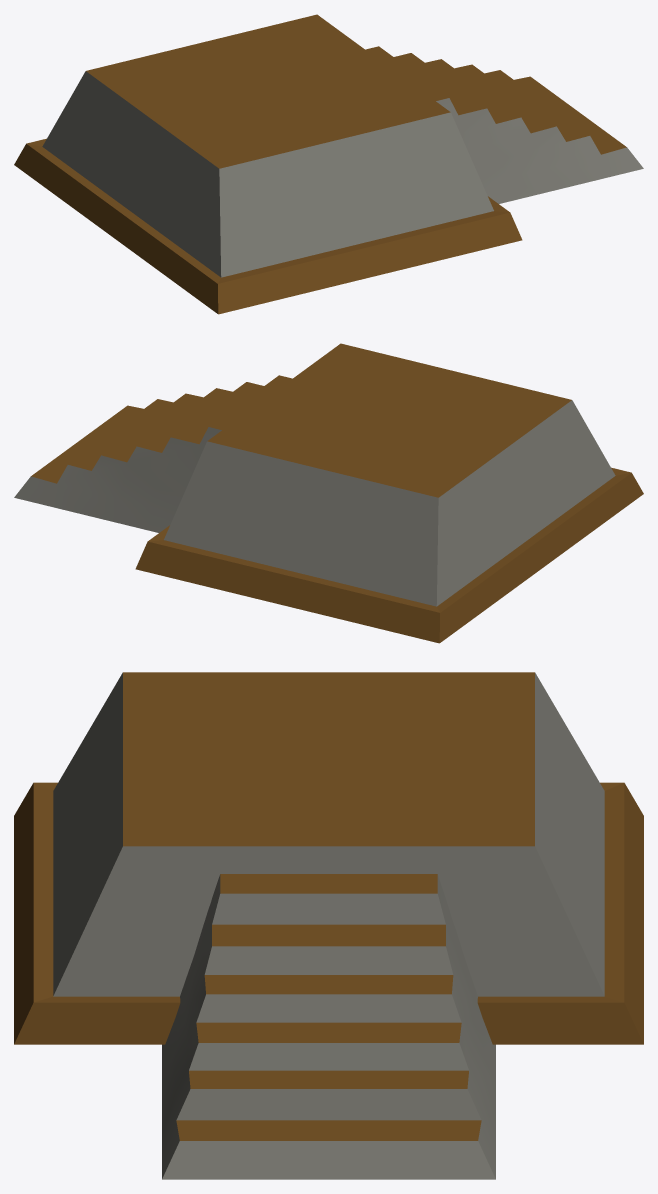
File: dais.fbx
The picture shows the model from 3 angles, top to bottom: view 1: azimuth 30°, elevation 25°; view 2: azimuth 150°, elevation 25°; view 3: azimuth 270°, elevation 25°; orthographic projection. The views are drawn at different scales.
Visible parts, largest first — view 1: Dais; view 2: Dais; view 3: Dais.
Part boxes in pixels (bbox=[...]): Dais: bbox=[14, 14, 643, 314]; Dais: bbox=[14, 343, 643, 643]; Dais: bbox=[14, 672, 643, 1179].
Size of the model in its own units: 348 by 260 by 81.37.
